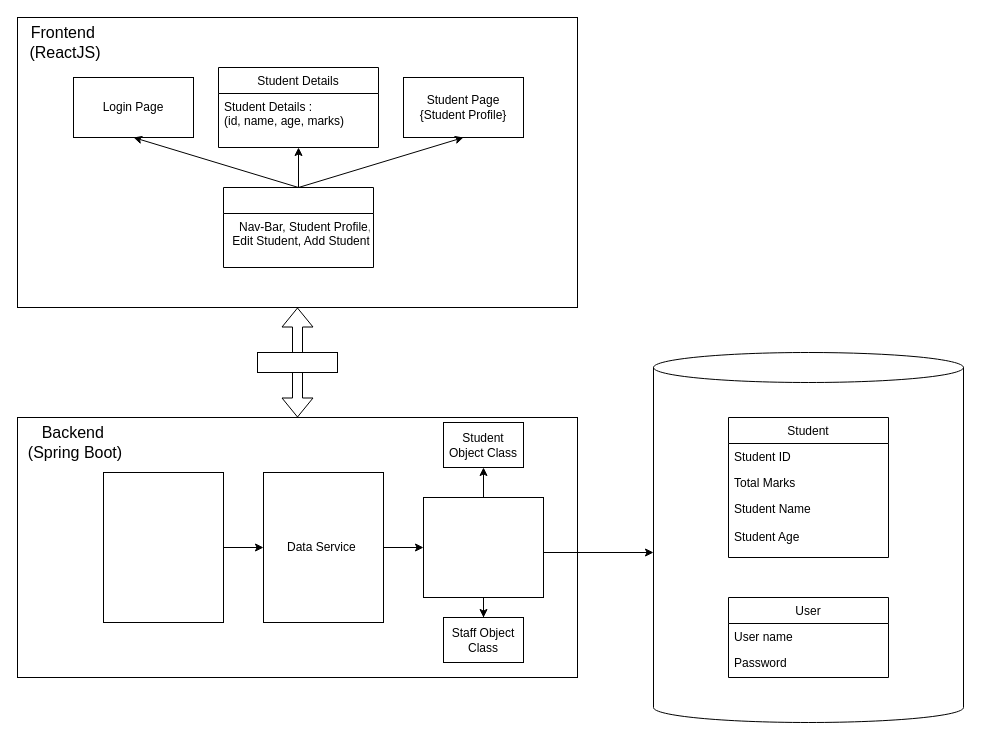
This 981x740 diagram has some shape labels left out. The box of each missing label's shape, as (x1, y1, x2, y2) in pixels:
Data Repository: (422, 496, 544, 598)
Main Page: (222, 186, 374, 268)
REST API: (256, 352, 338, 372)
Student Controller: (102, 472, 224, 622)
